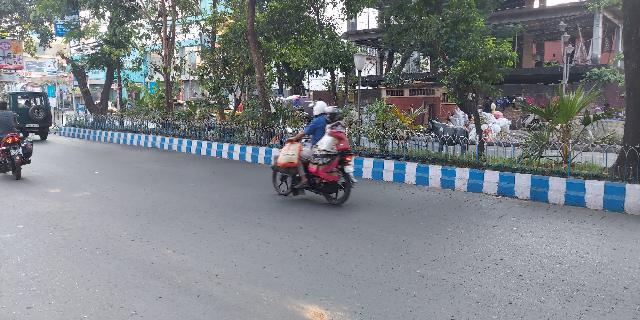Car: (1, 90, 53, 141)
Motorbike: (262, 99, 356, 209), (1, 100, 31, 184)
